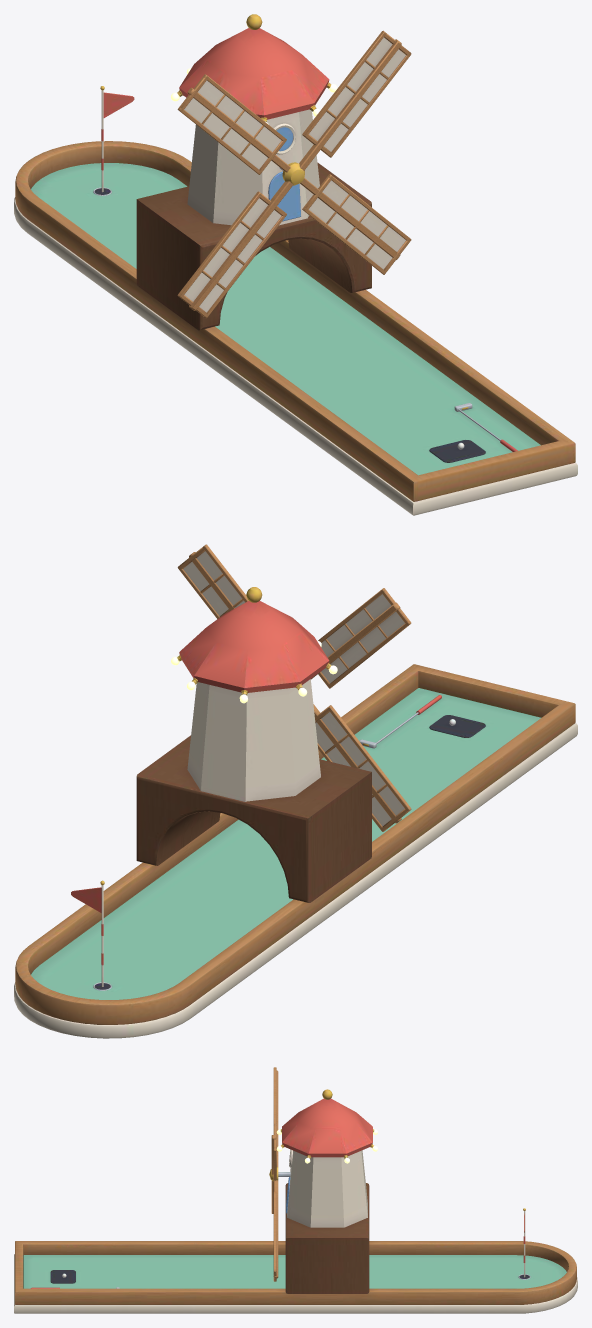
File: minigolf.glb
3 renders of one model, top to bottom at view 1: azimuth 30°, elevation 25°; view 2: azimuth 150°, elevation 25°; view 3: azimuth 270°, elevation 25°, orthographic. The views are drawn at different scales.
Parts seen in each view (by area): view 1: mini-golf-course_body; view 2: mini-golf-course_body; view 3: mini-golf-course_body.
Part boxes in pixels (x1,y1,x2,y2): mini-golf-course_body: (14,14,577,515); mini-golf-course_body: (14,544,577,1038); mini-golf-course_body: (14,1067,577,1313).
Size of the model in its own units: 1.66 by 2.09 by 5.38.
3 materials, 2 textured.
